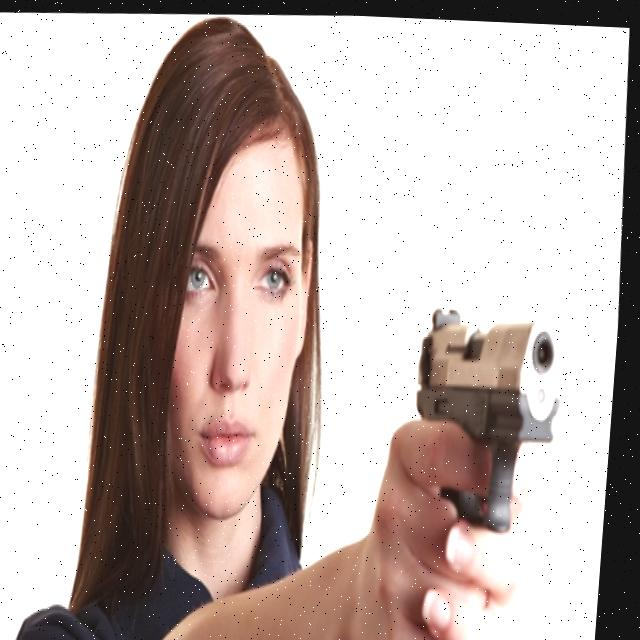pistol: (408, 291, 577, 534)
